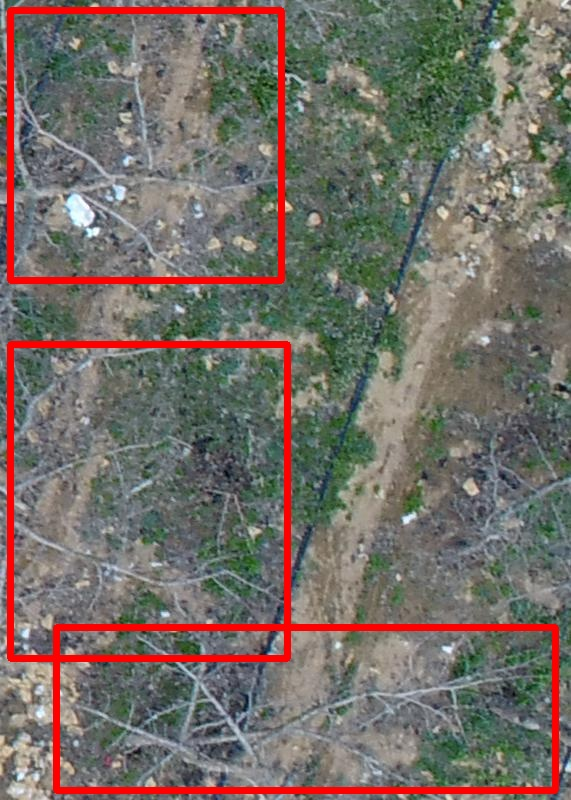apple: (10, 344, 287, 658), (56, 627, 555, 790), (10, 10, 281, 280)
